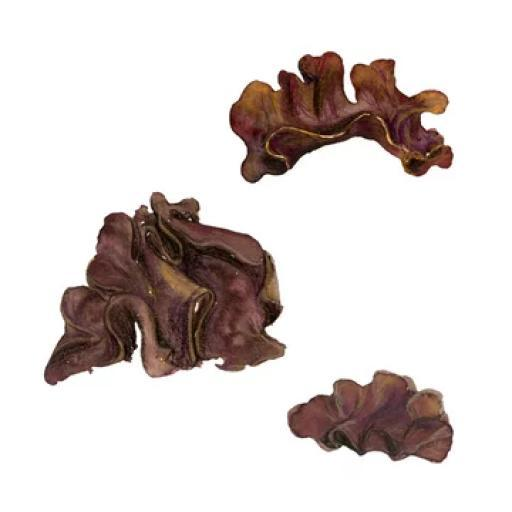mushroom: (25, 192, 282, 389), (204, 35, 474, 204), (288, 359, 456, 475)
